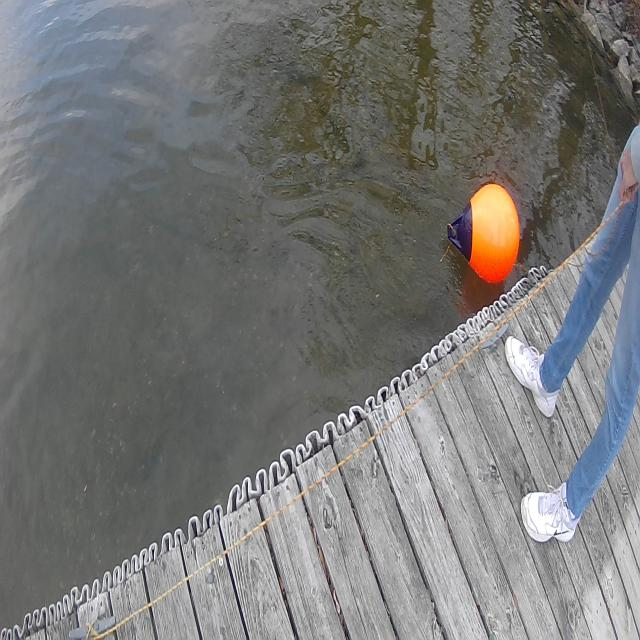Buoy: (443, 176, 522, 288)
